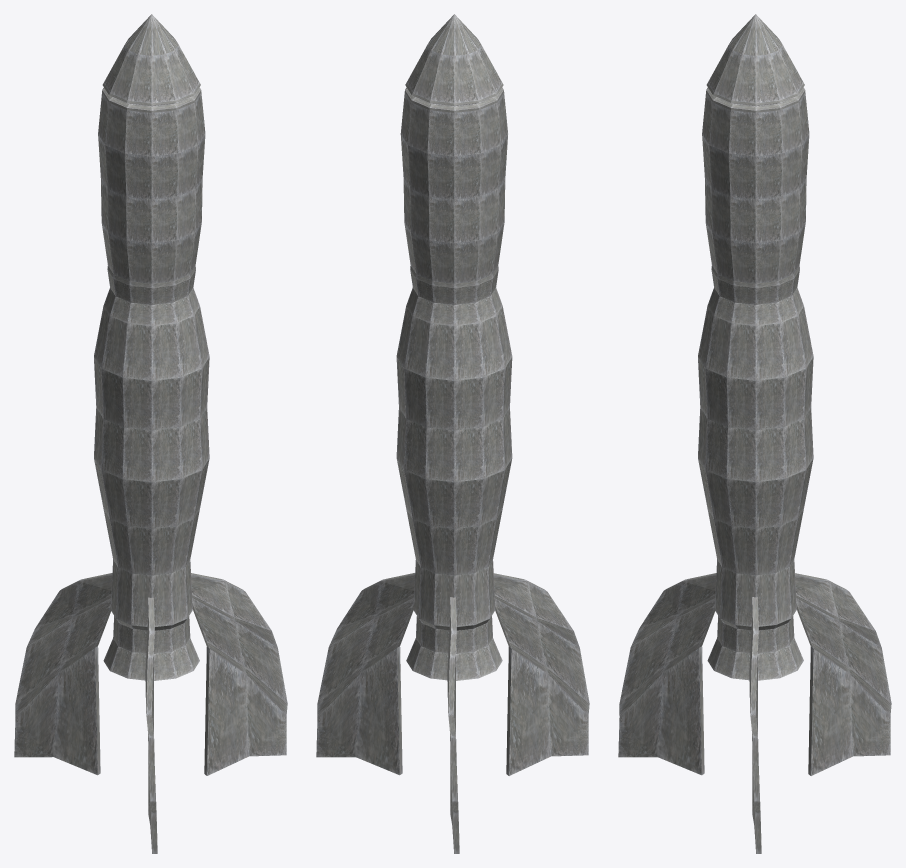
Rendered from Rakete01v3.fbx.
3 renders of one model, left to right at view 1: azimuth 30°, elevation 25°; view 2: azimuth 150°, elevation 25°; view 3: azimuth 270°, elevation 25°, orthographic.
Visible parts, largest first — view 1: Circle; view 2: Circle; view 3: Circle.
Part boxes in pixels (x1,y1,x2,y2): Circle: (14,14,287,853); Circle: (316,14,589,853); Circle: (618,14,891,853).
Size of the model in its own units: 213 by 763 by 244.
